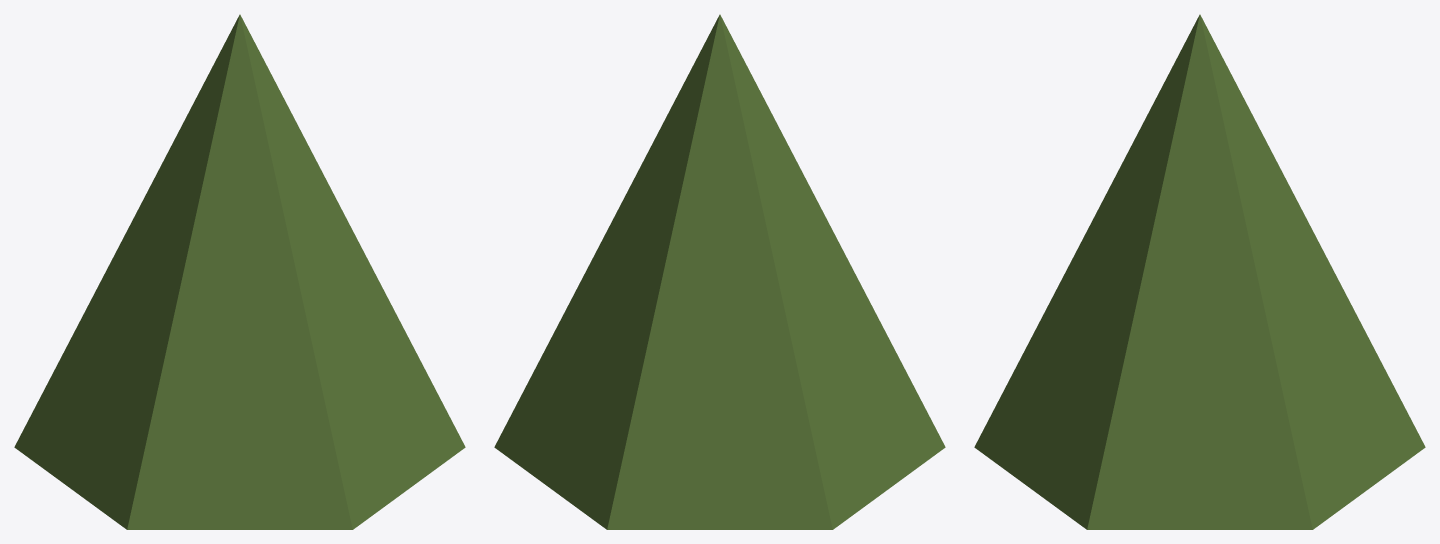
The model's file is nature_zelkova_a_lod2.glb.
3 views of the same model, side by side, from view 1: azimuth 30°, elevation 25°; view 2: azimuth 150°, elevation 25°; view 3: azimuth 270°, elevation 25° (orthographic).
Visible parts, largest first — view 1: nature_zelkova_a_lod2; view 2: nature_zelkova_a_lod2; view 3: nature_zelkova_a_lod2.
Part boxes in pixels (x1,y1,x2,y2): nature_zelkova_a_lod2: (14,14,465,529); nature_zelkova_a_lod2: (494,14,945,529); nature_zelkova_a_lod2: (974,14,1425,529).
Size of the model in its own units: 6 by 7.34 by 6.93.
